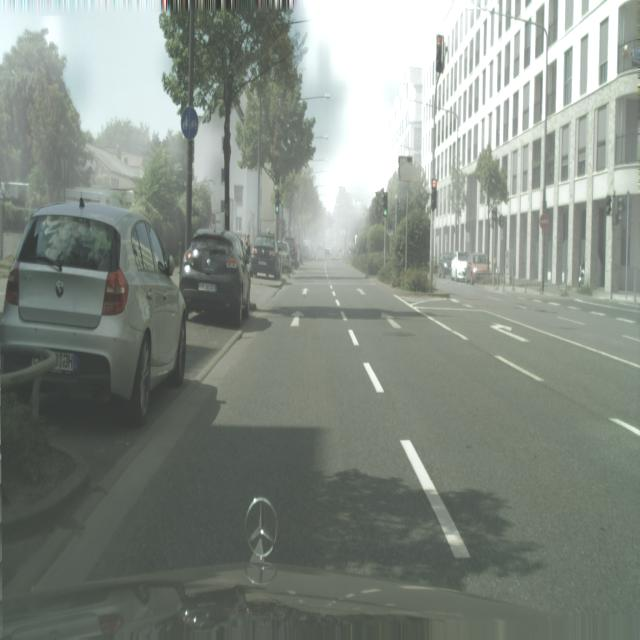person: (1, 196, 188, 427), (179, 230, 252, 328), (250, 233, 282, 280), (466, 251, 489, 284), (451, 251, 469, 282), (284, 236, 300, 269), (277, 241, 291, 276), (438, 251, 455, 279)
